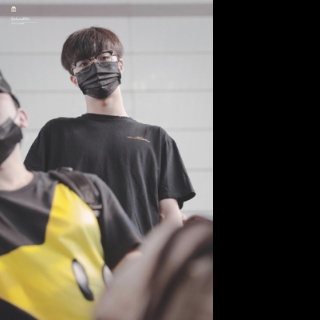with_mask: (74, 48, 122, 99)
